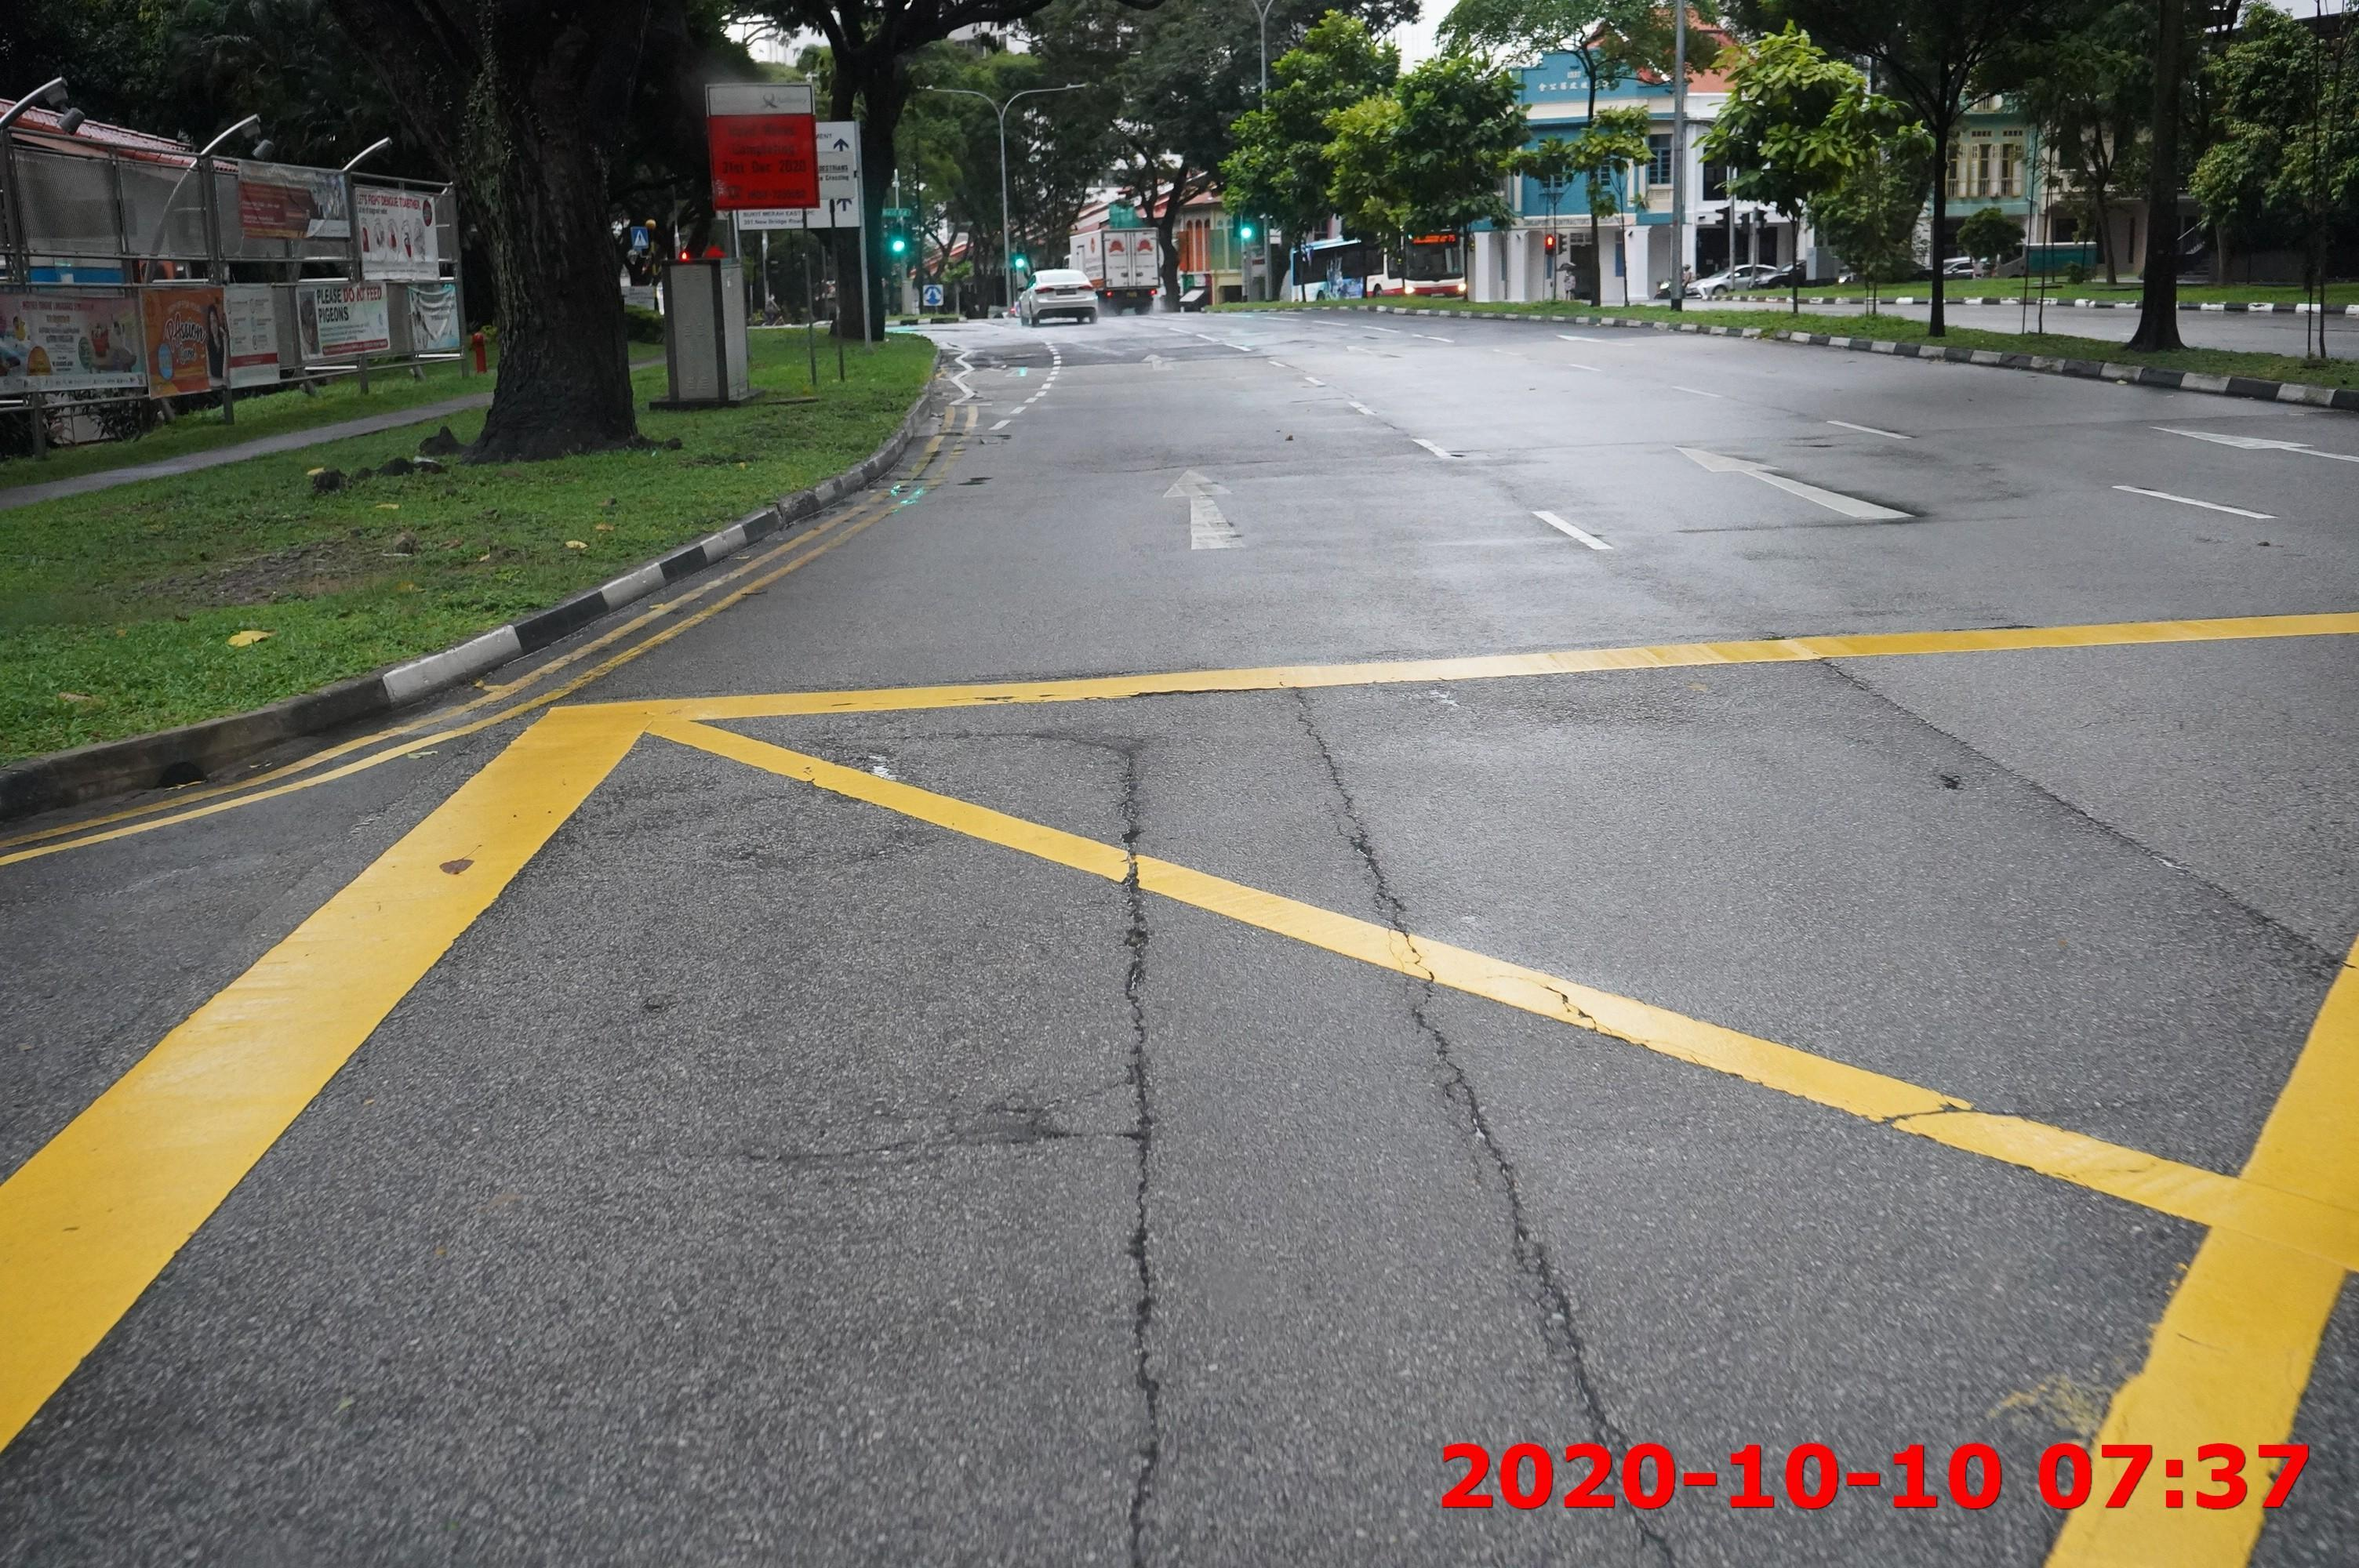single crack: (1307, 756, 1617, 1433)
transverse crack: (686, 1081, 1102, 1183)
